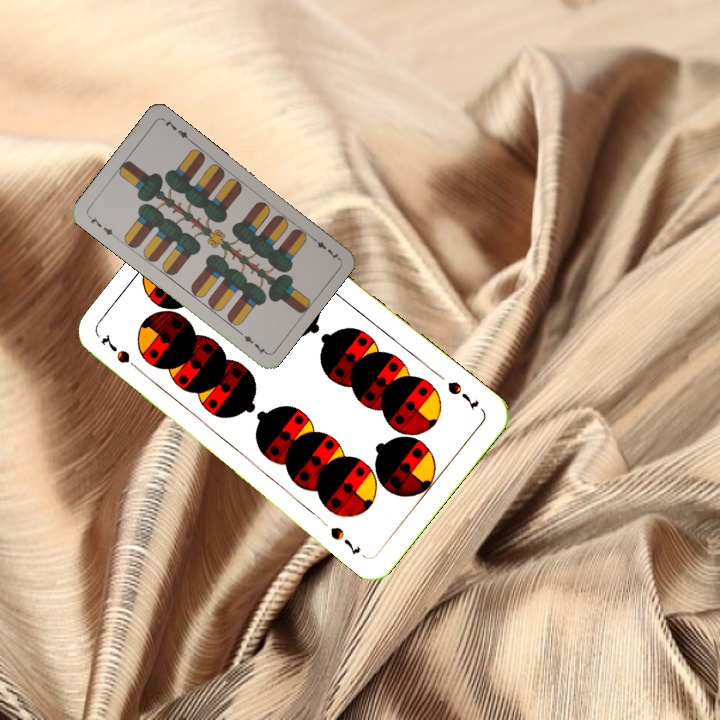E7: (307, 232, 342, 262), (84, 212, 118, 239)
S7: (97, 331, 145, 376), (443, 377, 482, 414)
